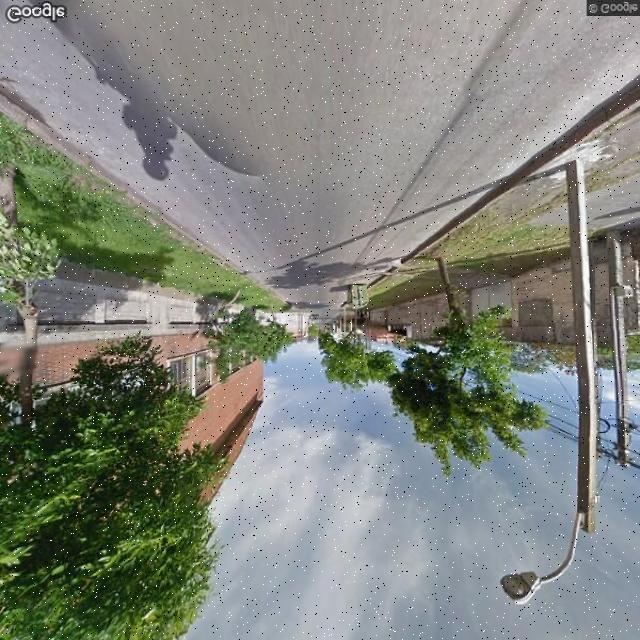garbage container: (344, 282, 375, 314)
